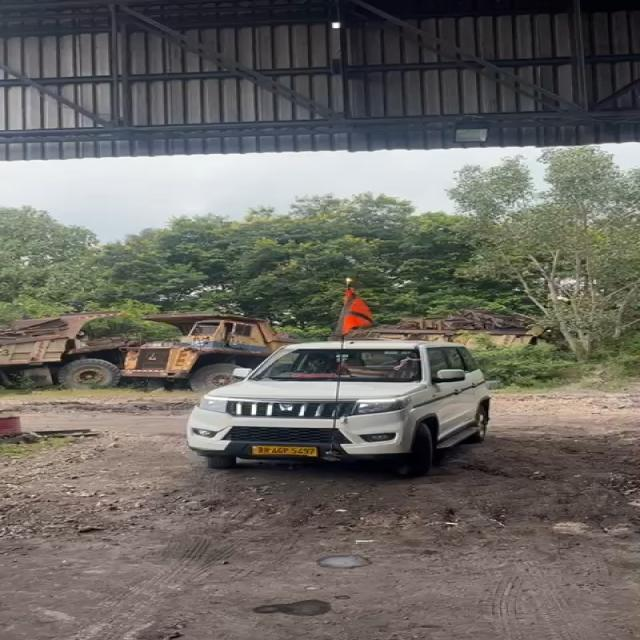light_vehicle: (179, 335, 494, 465)
